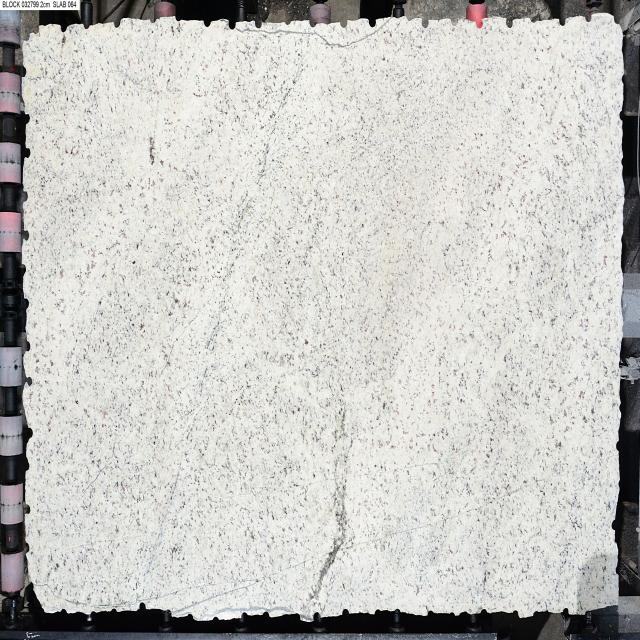chapa: (22, 14, 623, 617)
furo: (24, 575, 50, 620)
veio: (224, 11, 238, 34), (251, 9, 265, 31), (20, 224, 33, 244), (21, 142, 34, 160), (22, 336, 35, 353), (21, 184, 32, 204), (24, 423, 36, 441), (22, 104, 32, 125), (340, 604, 352, 621), (474, 15, 486, 32), (22, 500, 32, 520), (20, 374, 34, 388), (310, 610, 324, 623), (366, 12, 378, 27), (420, 15, 430, 32), (611, 512, 618, 536), (504, 15, 515, 30), (338, 16, 349, 30), (138, 599, 146, 614), (511, 606, 520, 619), (202, 15, 211, 27)
